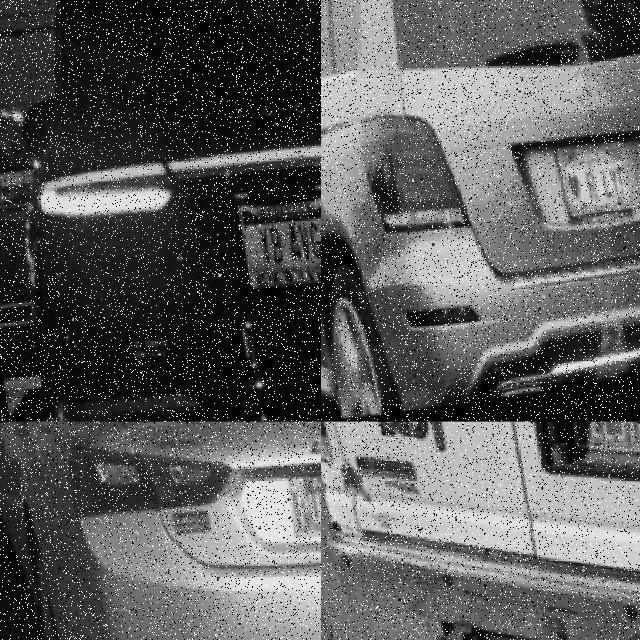LicensePlate: (227, 199, 319, 293), (547, 143, 623, 223), (276, 472, 319, 541), (563, 421, 639, 457)
